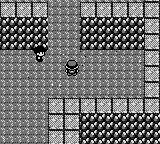main: (65, 60, 79, 76)
no-caminable: (48, 2, 159, 143), (80, 114, 159, 143), (80, 18, 144, 50), (0, 18, 48, 50), (0, 3, 47, 17)
npc: (33, 47, 48, 62)
